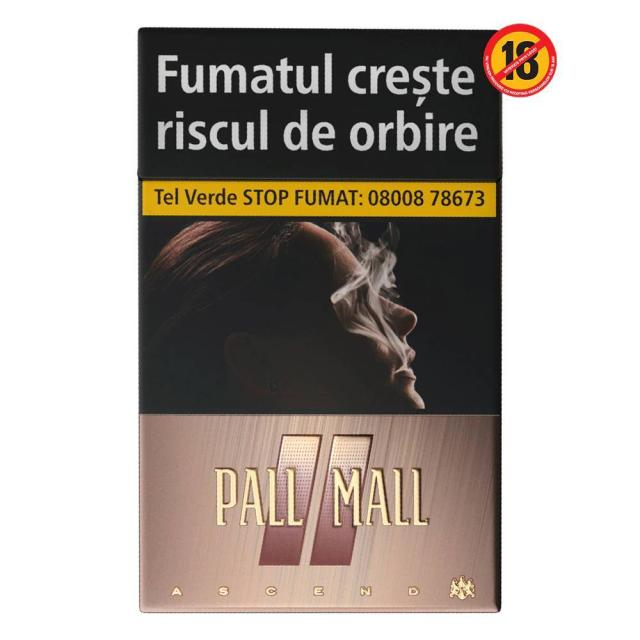pallmall: (134, 21, 511, 619)
